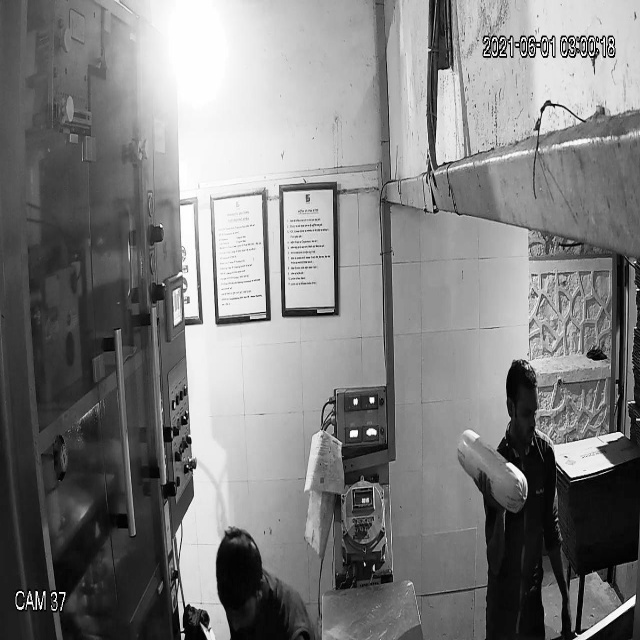Sin_gafas: (505, 394, 542, 430)
